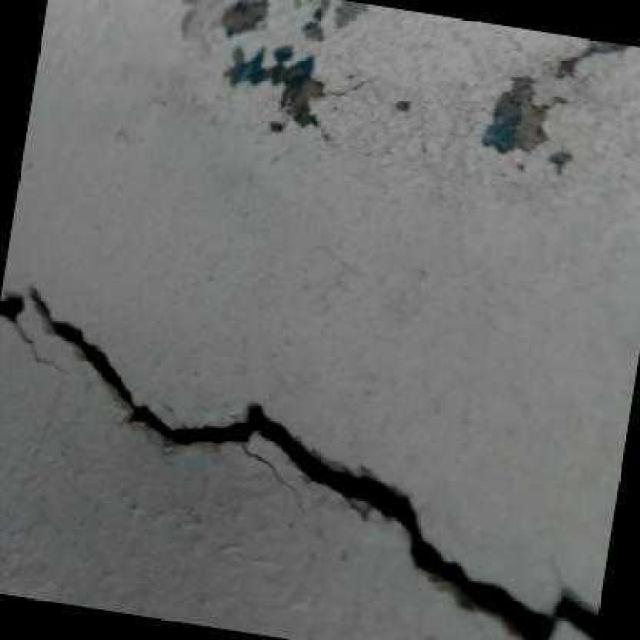D00: (0, 288, 598, 640)
